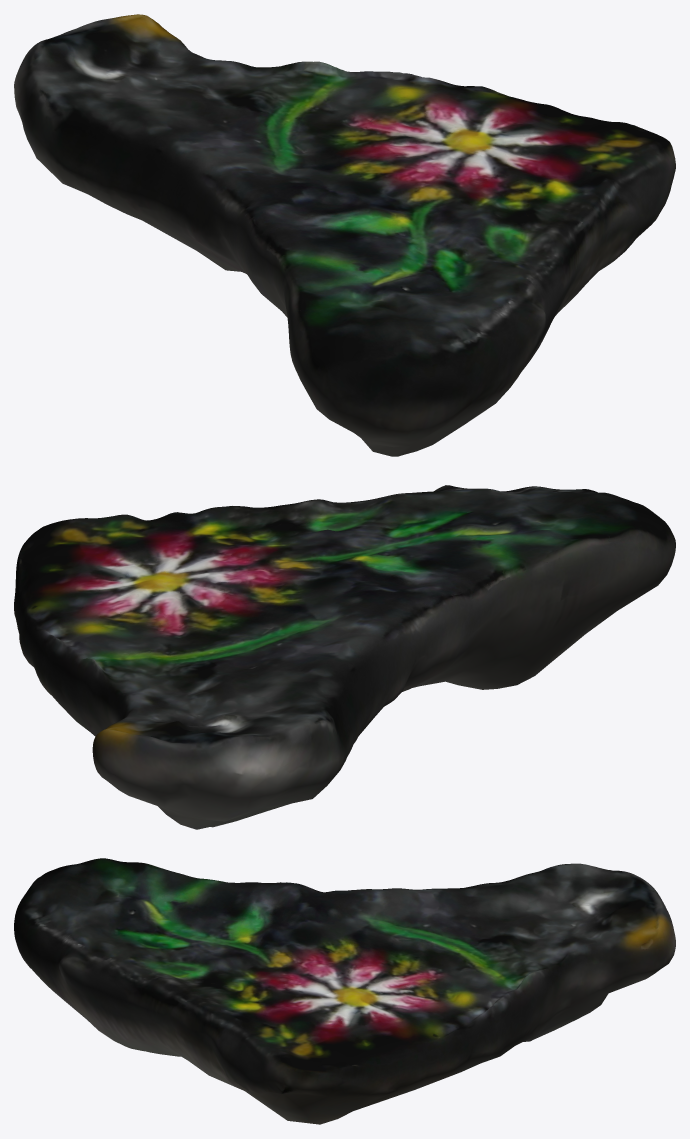
3 views of the same model, one above another, from view 1: azimuth 30°, elevation 25°; view 2: azimuth 150°, elevation 25°; view 3: azimuth 270°, elevation 25° (orthographic). The views are drawn at different scales.
Size of the model in its own units: 0.3813 by 0.1345 by 0.5436.
1 material, 1 textured.
